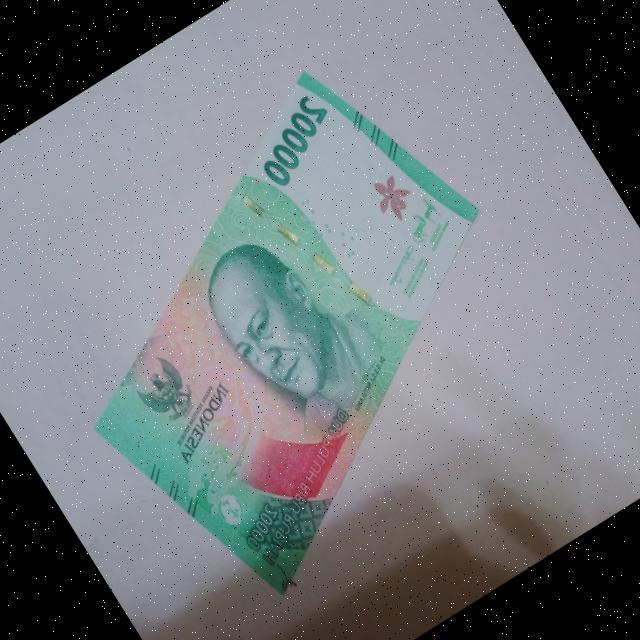20K: (0, 29, 604, 640)
